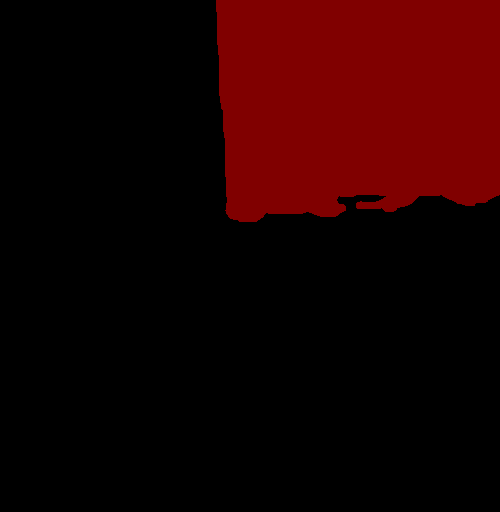Sky: (1, 1, 499, 511)
